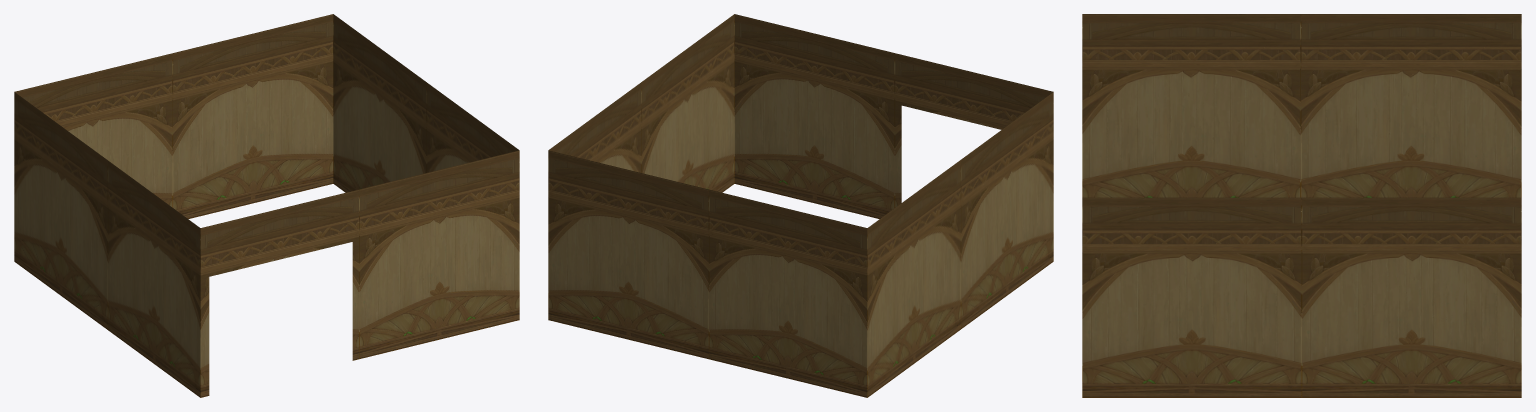
File: Homeworld_Interior_Xm_Room_I_Filling_01_Vo.fbx
3 views of the same model, side by side, from view 1: azimuth 30°, elevation 25°; view 2: azimuth 150°, elevation 25°; view 3: azimuth 270°, elevation 25° (orthographic). The views are drawn at different scales.
Parts seen in each view (by area): view 1: Homeworld_Interior_Xm_Room_I_Filling_01_Vo; view 2: Homeworld_Interior_Xm_Room_I_Filling_01_Vo; view 3: Homeworld_Interior_Xm_Room_I_Filling_01_Vo.
Boxes of the visible parts, box(x1,y1,x2,y2) form: Homeworld_Interior_Xm_Room_I_Filling_01_Vo: box(14, 14, 519, 397); Homeworld_Interior_Xm_Room_I_Filling_01_Vo: box(548, 14, 1053, 397); Homeworld_Interior_Xm_Room_I_Filling_01_Vo: box(1082, 14, 1521, 397).
Bounding box in the file's own units: 9.79 × 4.98 × 9.9.
